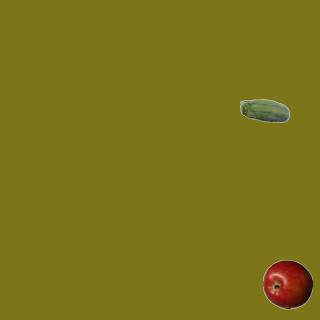Apple Braeburn: (262, 259, 312, 309)
Corn Husk: (239, 87, 289, 137)
